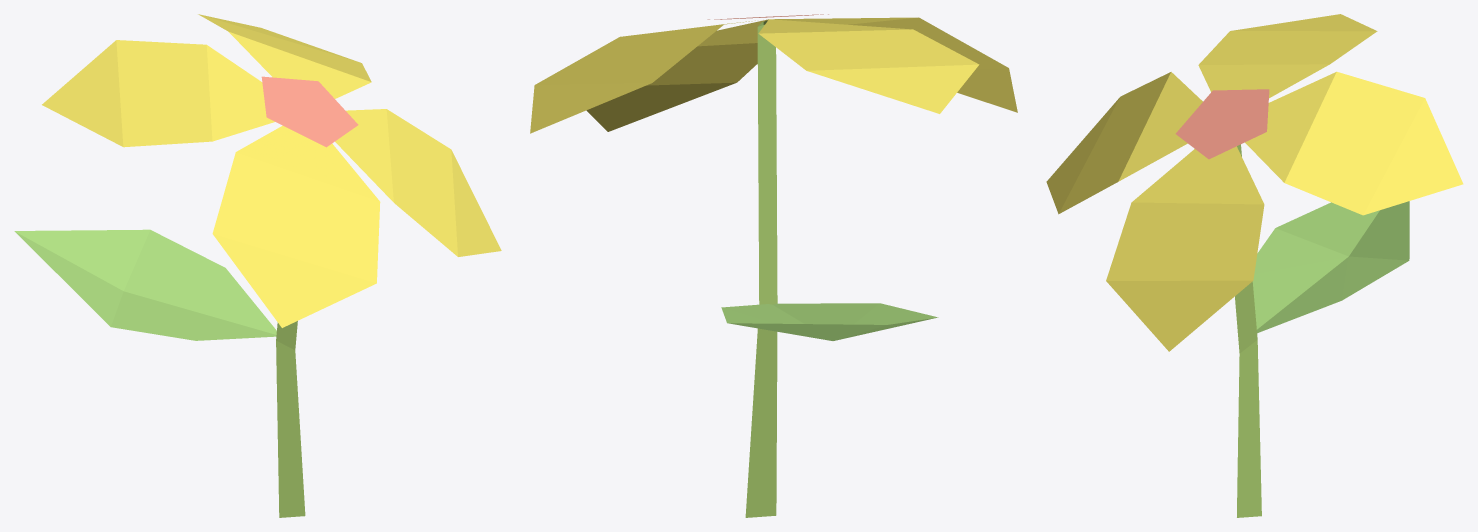
File: Flower_d_OneS_06.fbx
The picture shows the model from 3 angles, left to right: view 1: azimuth 30°, elevation 25°; view 2: azimuth 150°, elevation 25°; view 3: azimuth 270°, elevation 25°; orthographic projection. The views are drawn at different scales.
Parts seen in each view (by area): view 1: Flower_d_OneS_06; view 2: Flower_d_OneS_06; view 3: Flower_d_OneS_06.
Part boxes in pixels (bbox=[...]): Flower_d_OneS_06: bbox=[14, 14, 501, 517]; Flower_d_OneS_06: bbox=[530, 14, 1017, 517]; Flower_d_OneS_06: bbox=[1046, 14, 1463, 517].
Size of the model in its own units: 21.95 by 25.61 by 22.28.
